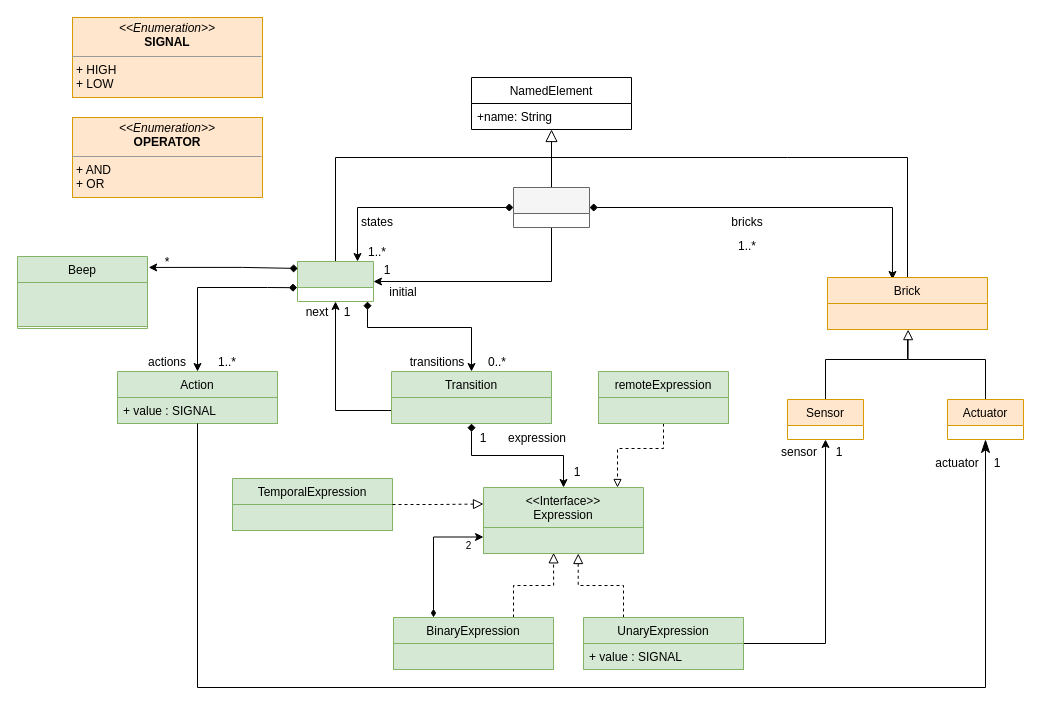
This 1045x718 diagram has some shape labels left out. Each missing label, with the centre of its shape:
+ count: int + duration: int: the point at 82,304
+ getExpression(): the point at 563,540
+ operator : OPERATOR: the point at 473,656
+ pin : Integer: the point at 907,316
+ value : Char: the point at 663,410
+ value : int: the point at 312,517
App: the point at 551,207
State: the point at 335,281
